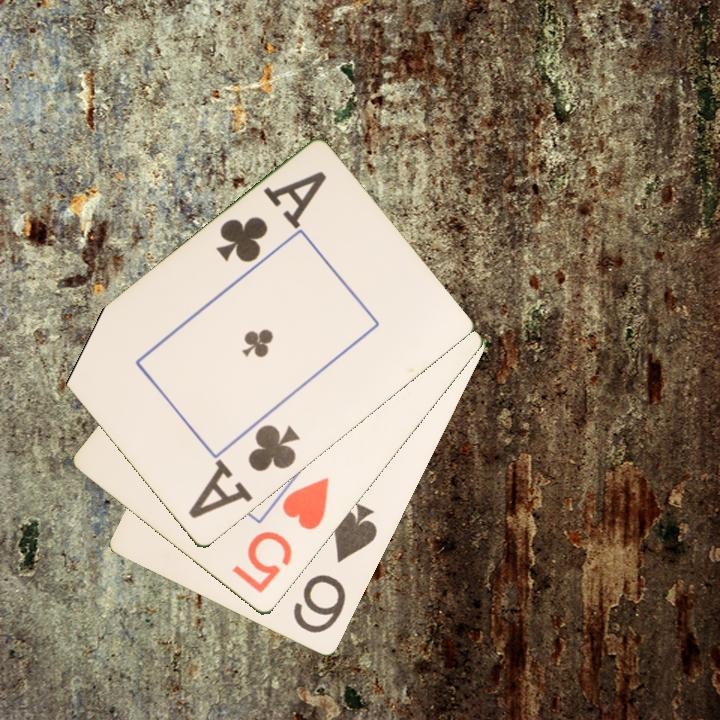5h: (228, 474, 333, 597)
6s: (289, 500, 381, 637)
Ac: (184, 421, 303, 523), (212, 168, 330, 267)
